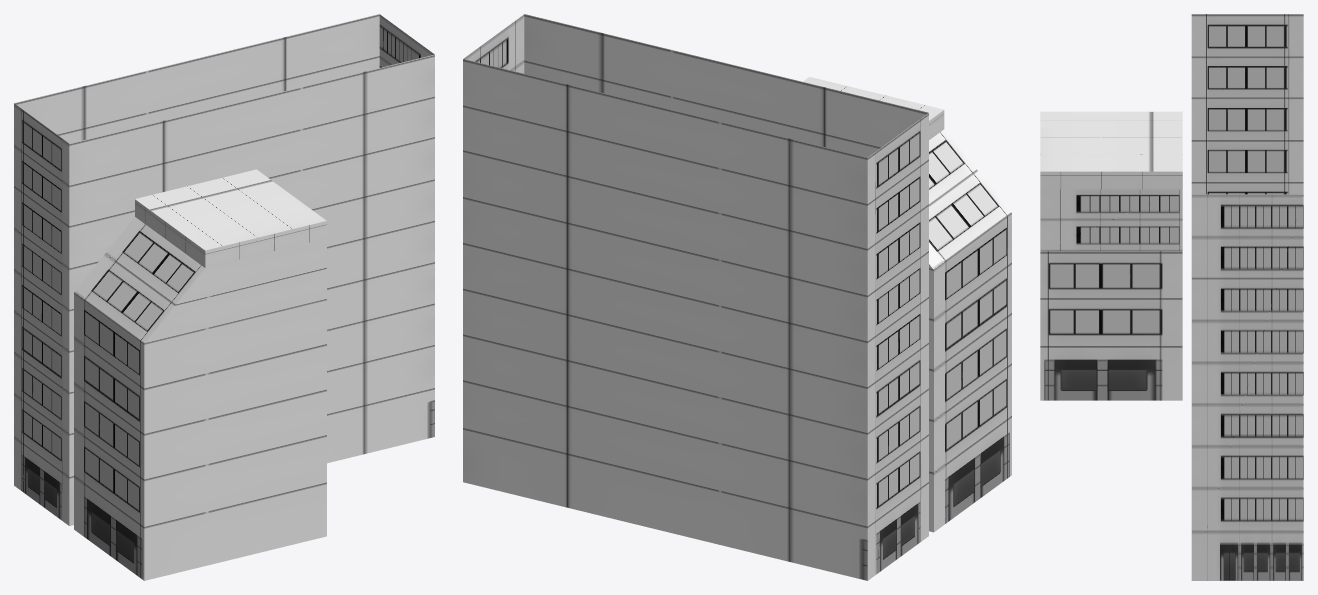
Rendered from buil_05.fbx.
The picture shows the model from 3 angles, left to right: view 1: azimuth 30°, elevation 25°; view 2: azimuth 150°, elevation 25°; view 3: azimuth 270°, elevation 25°; orthographic projection. The views are drawn at different scales.
Visible parts, largest first — view 1: buil_05; view 2: buil_05; view 3: buil_05.
Part boxes in pixels (x1,y1,x2,y2): buil_05: [14, 14, 434, 580]; buil_05: [463, 14, 1011, 580]; buil_05: [1040, 14, 1303, 580].
Size of the model in its own units: 24 by 24 by 14.81.
